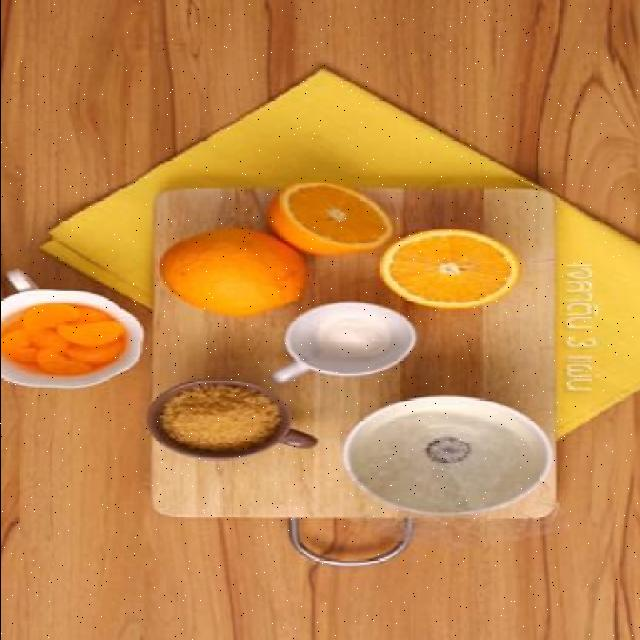Orange: (158, 226, 310, 317), (380, 226, 520, 309), (268, 180, 394, 254)
